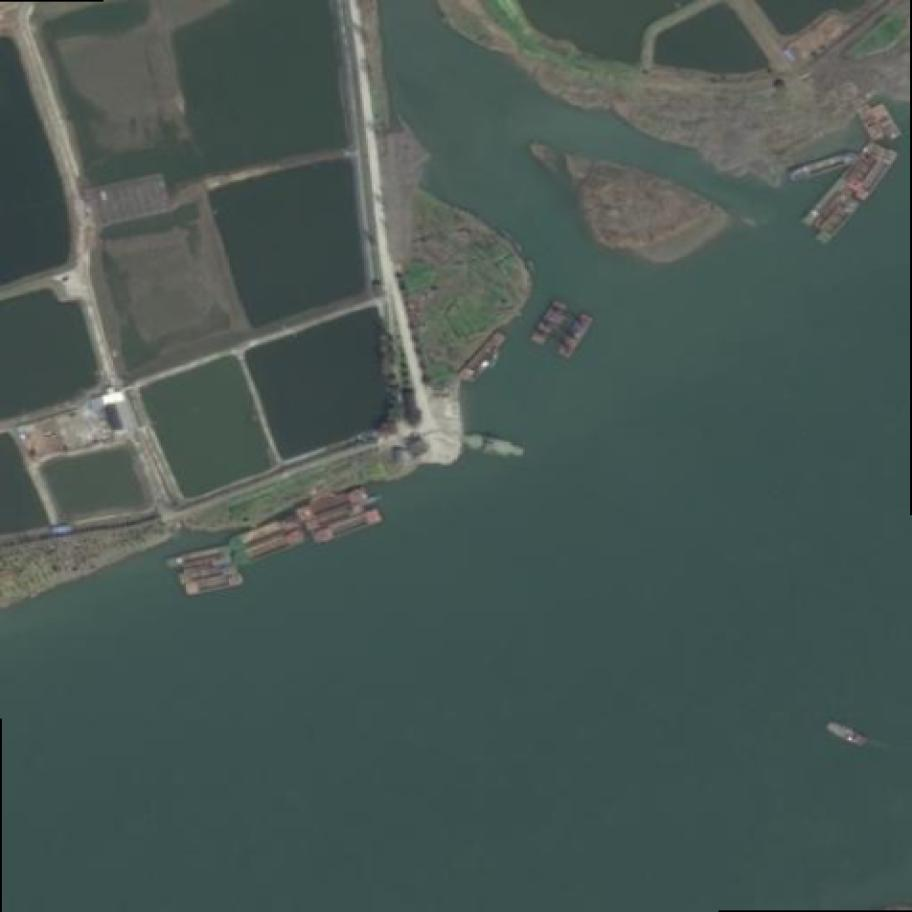ship: (454, 324, 514, 390), (855, 141, 912, 209), (799, 172, 858, 236), (811, 188, 866, 252), (523, 291, 575, 353), (552, 305, 604, 364), (835, 135, 887, 193), (312, 508, 385, 546), (239, 529, 310, 565), (307, 498, 379, 533), (299, 488, 370, 522), (232, 515, 299, 551), (466, 427, 527, 465), (867, 95, 909, 145), (791, 152, 858, 183), (167, 545, 234, 572), (180, 560, 238, 584), (826, 718, 870, 748), (188, 575, 245, 597), (856, 109, 883, 138)
